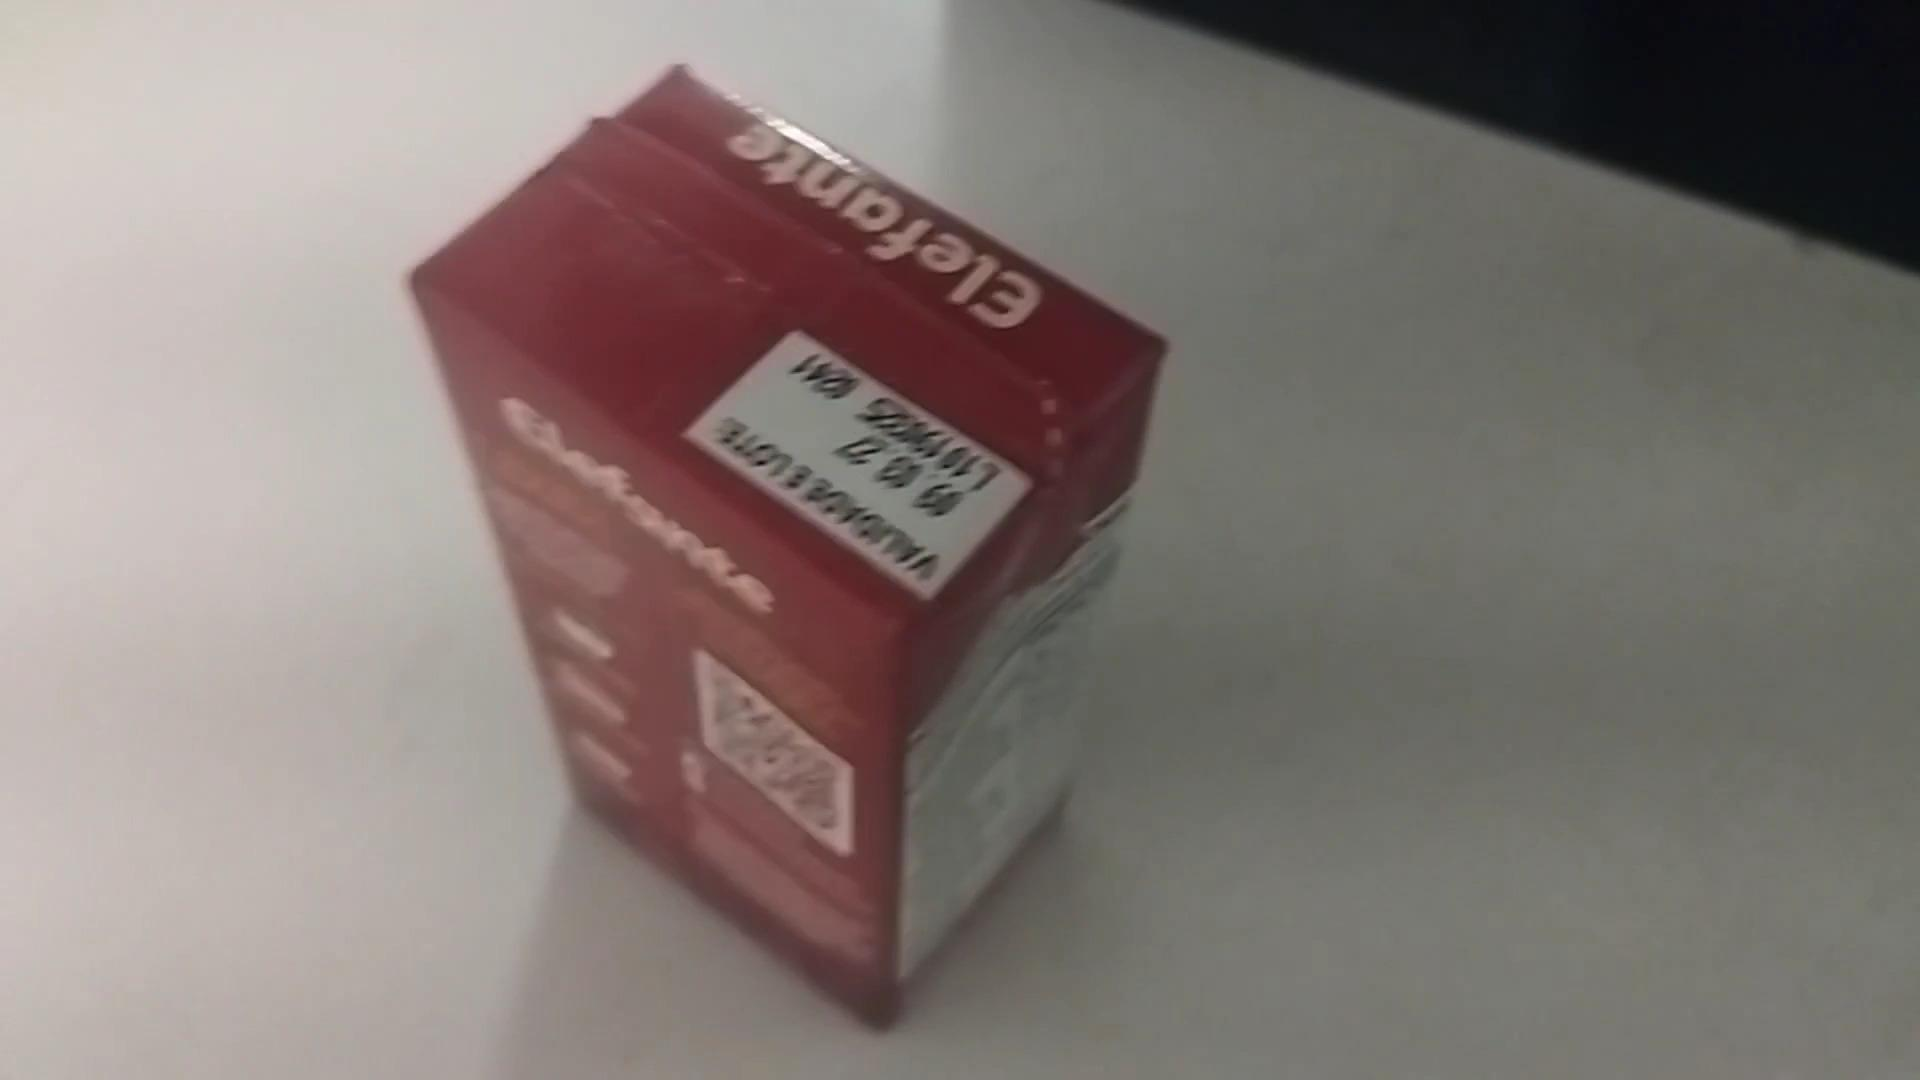tomate: (400, 51, 1166, 1027)
